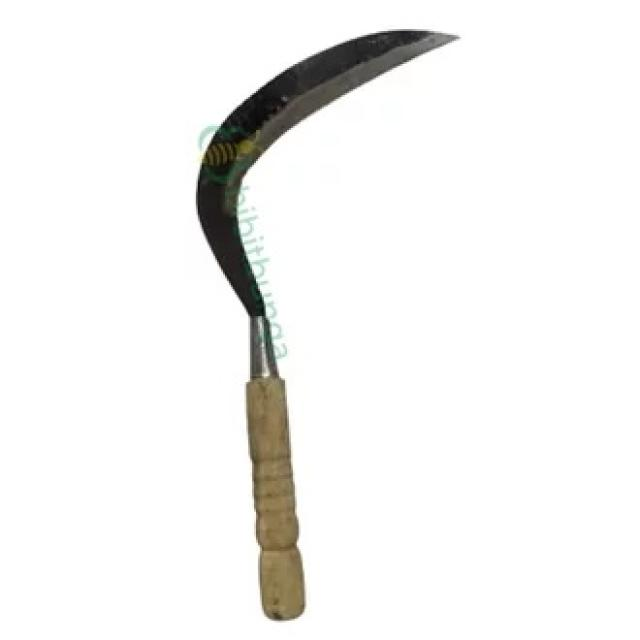Celurit: (195, 28, 462, 621)
